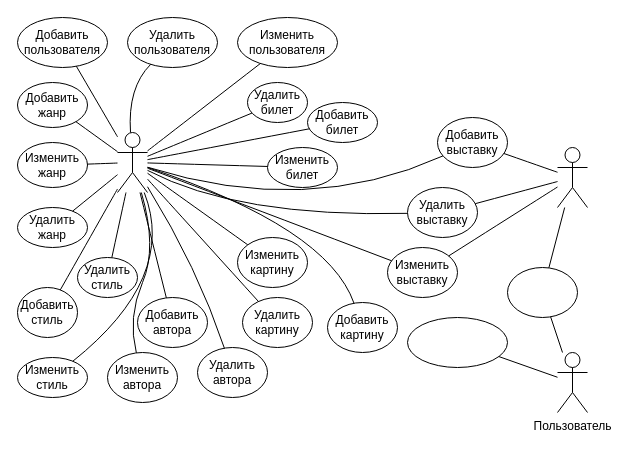
Some shapes in this 629 by 451 pixel diagram are drawn without their labels. Each missing label, with the centre of its shape:
Администратор: the point at 132,162
Бронирование билетов: the point at 457,342
Менеджер: the point at 572,177
Просмотр выставок: the point at 542,292
